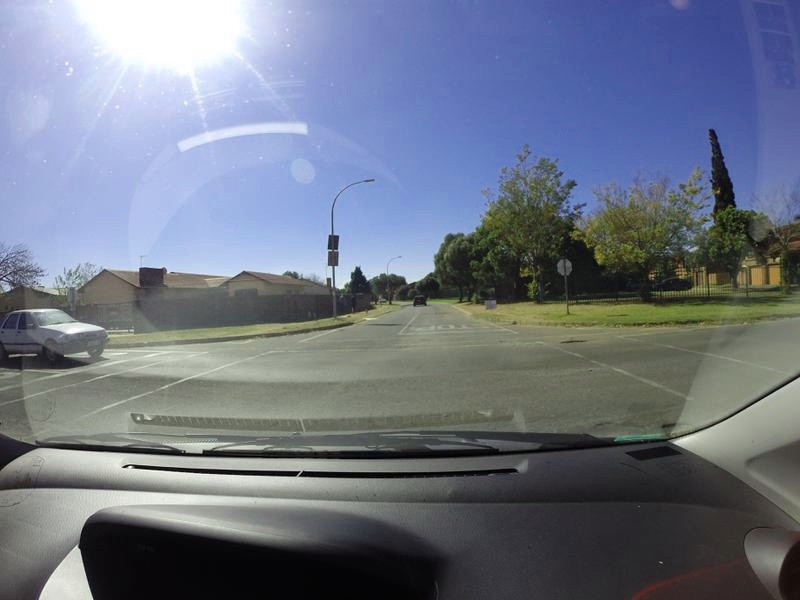pothole: (587, 413, 643, 434), (664, 422, 690, 432), (558, 339, 590, 343)
